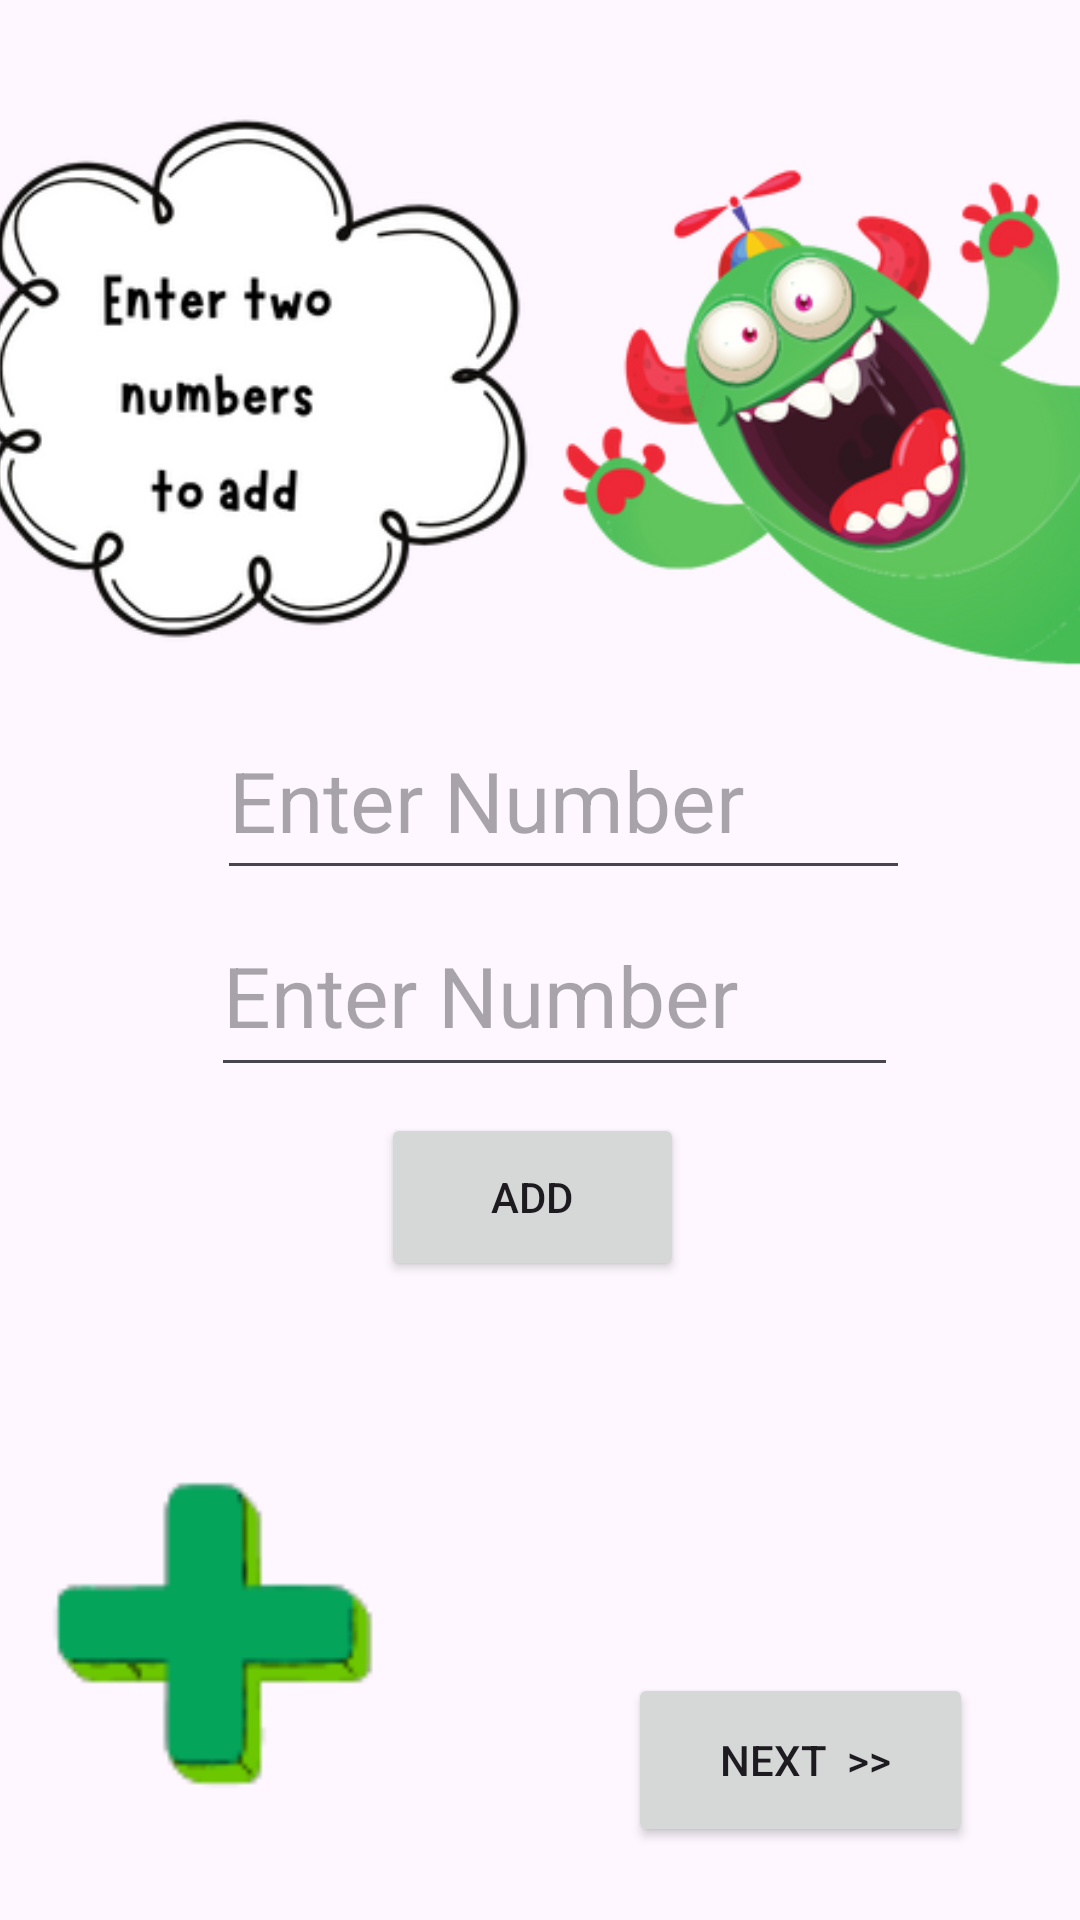

Screen size 1080px×1920px. Icon name, then its box in pixels as bbox(x1, y1, x2, y2):
plus: bbox(56, 1482, 373, 1785)
